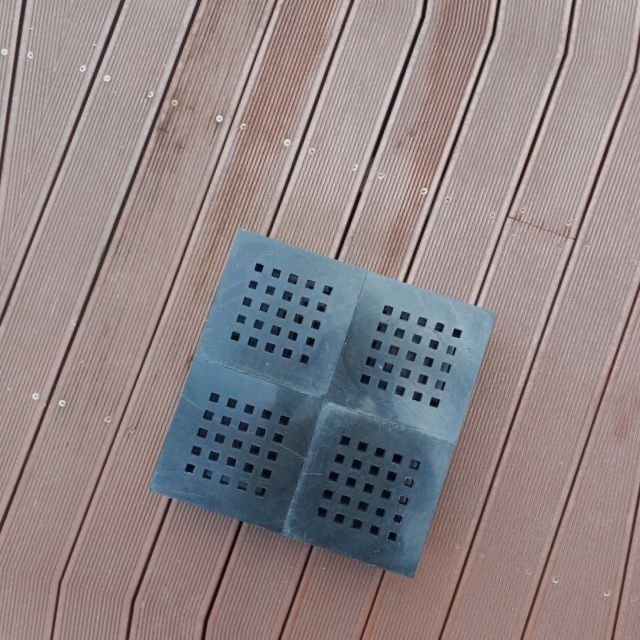pallet: (139, 215, 511, 585)
